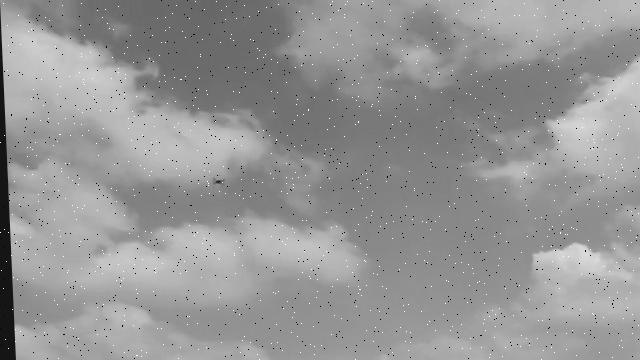drone: (205, 172, 227, 188)
